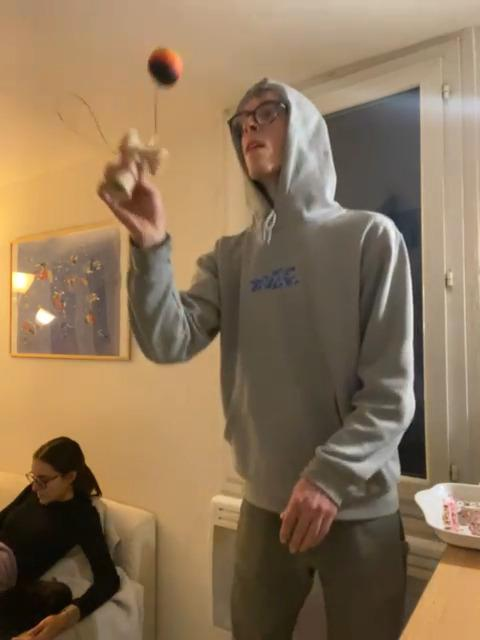kendama_ball: (147, 47, 183, 88)
